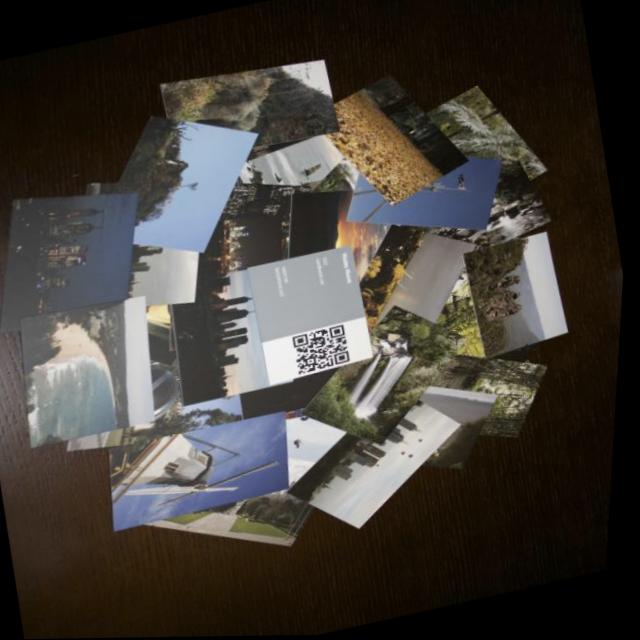qrcode: (295, 327, 356, 377)
